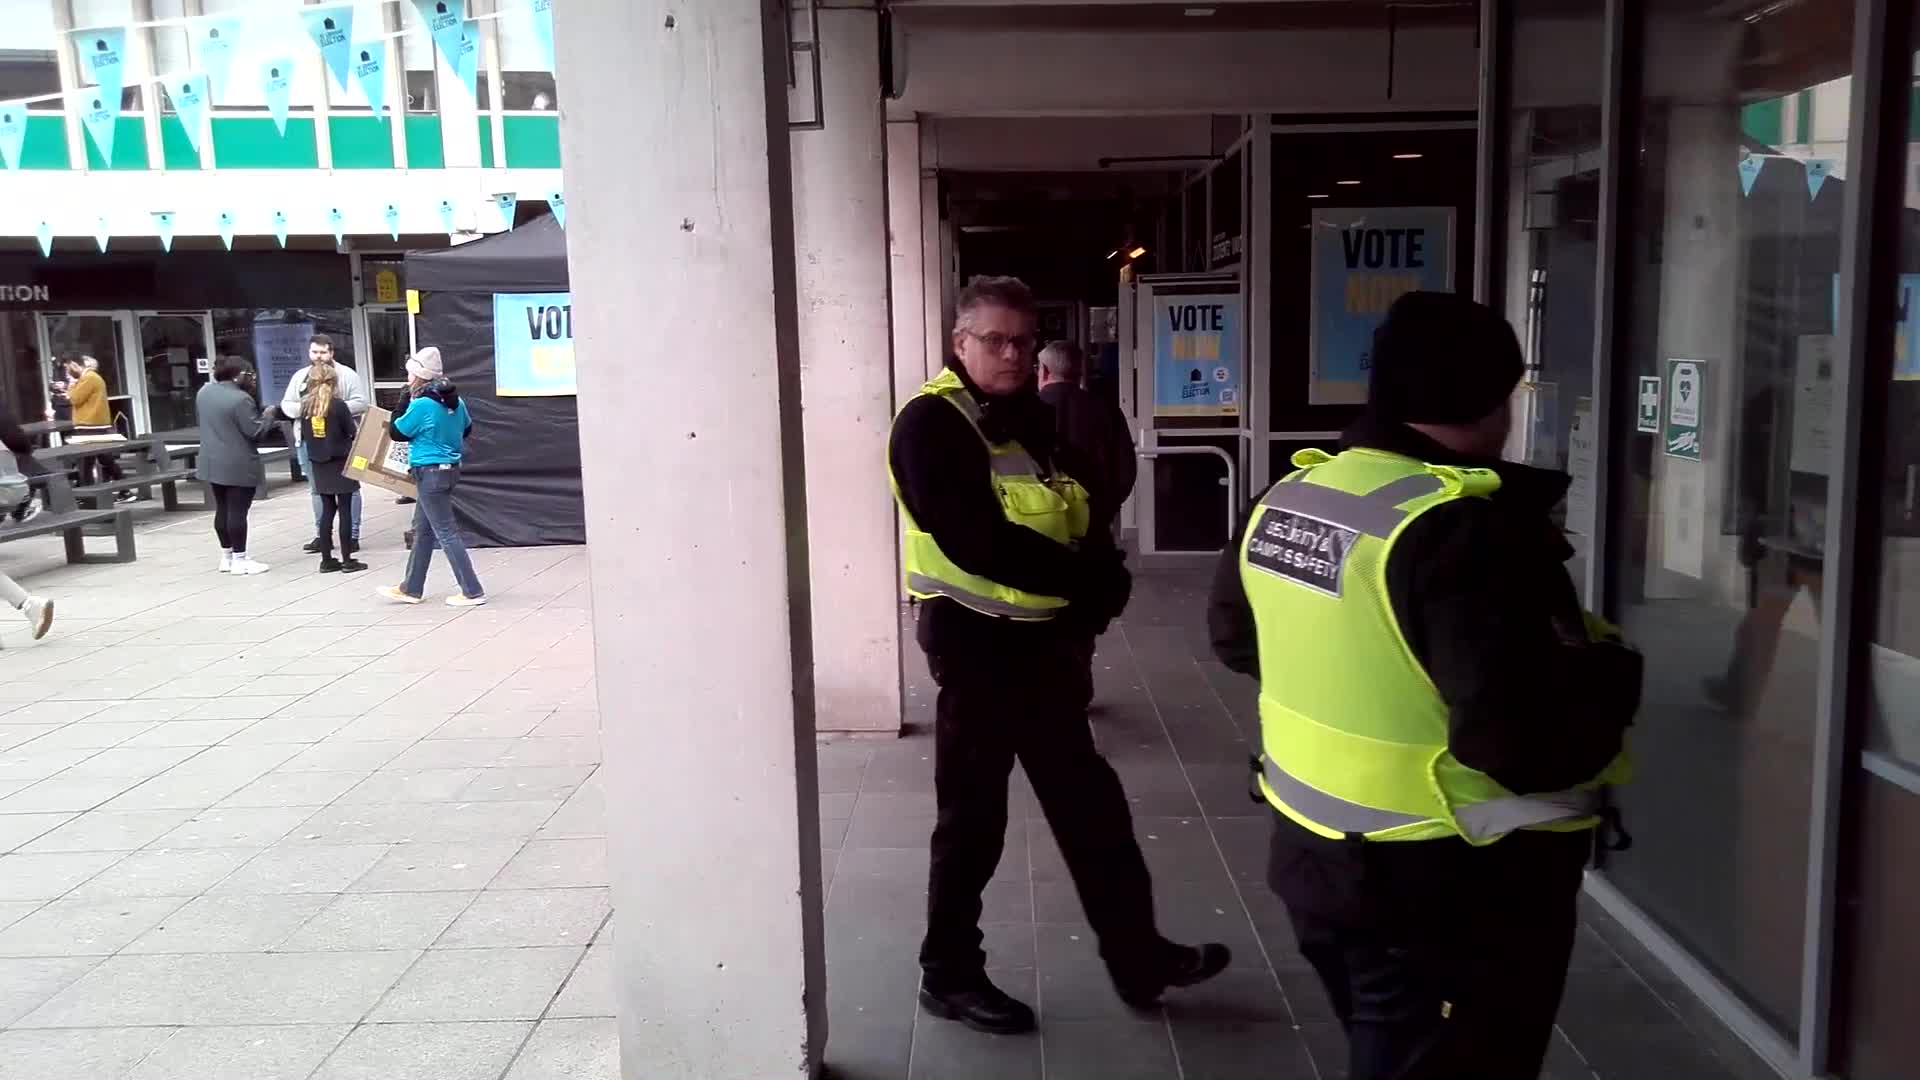Person: (1304, 291, 1568, 1059), (926, 281, 1161, 998)
